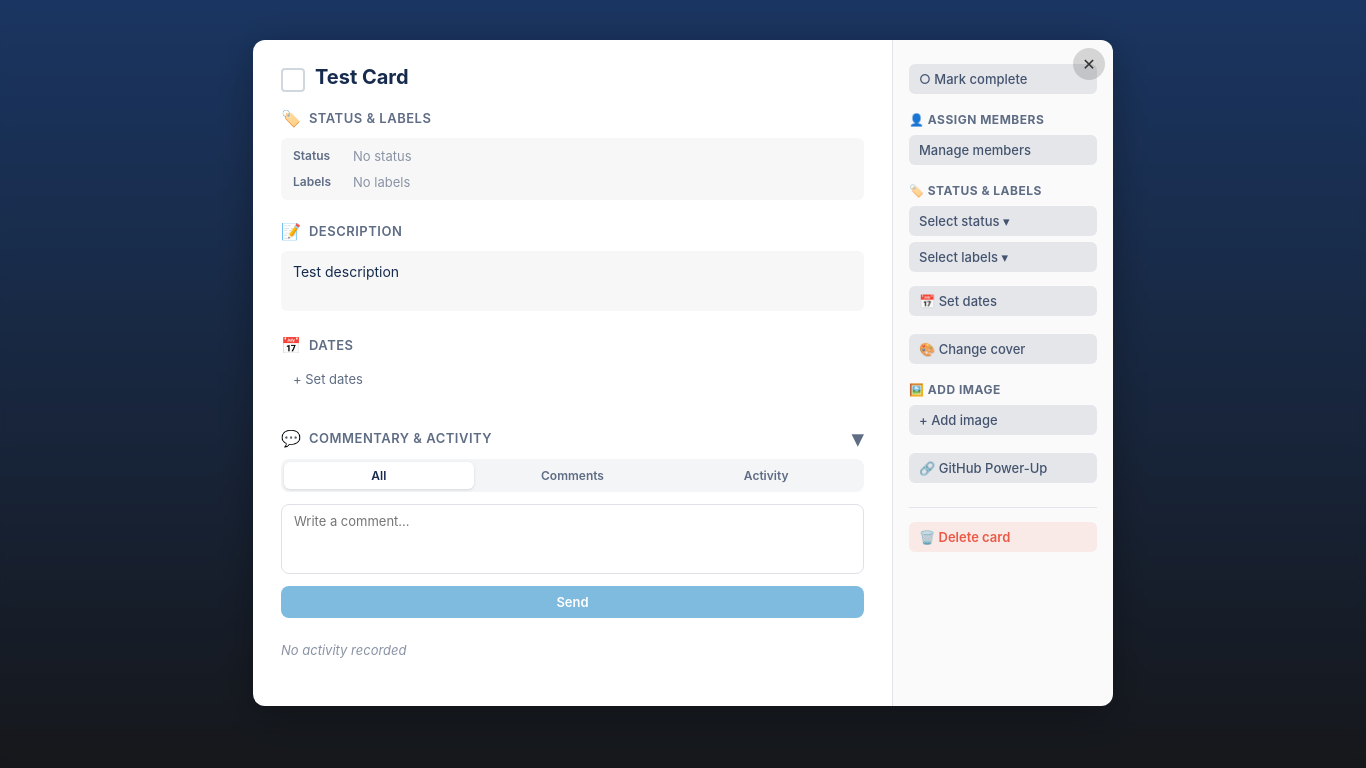
Test case: CardDetailModal › enters description editing mode on click
Click the text "Test description" at (346, 272), box [293,263,399,280]
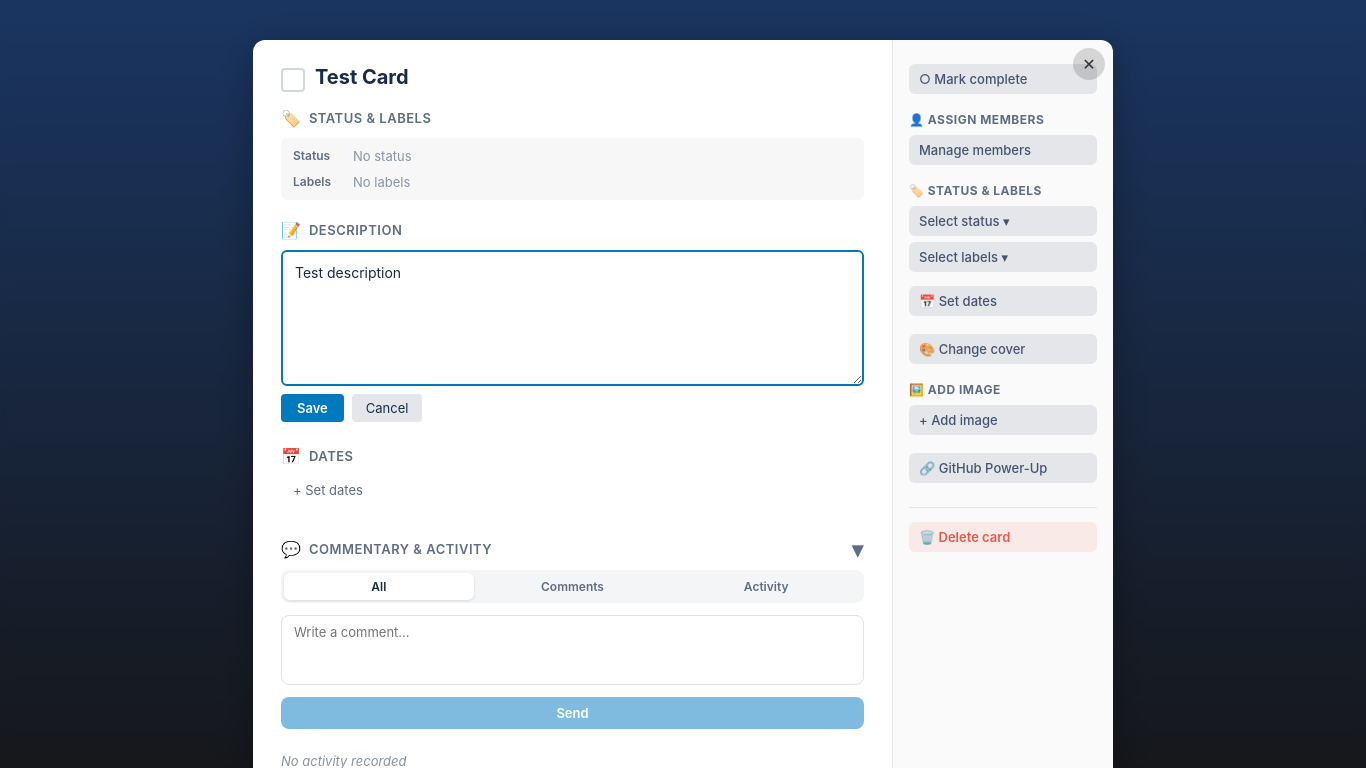
Expected: the text box showing "Test description" is shown, [281,250,864,386]
